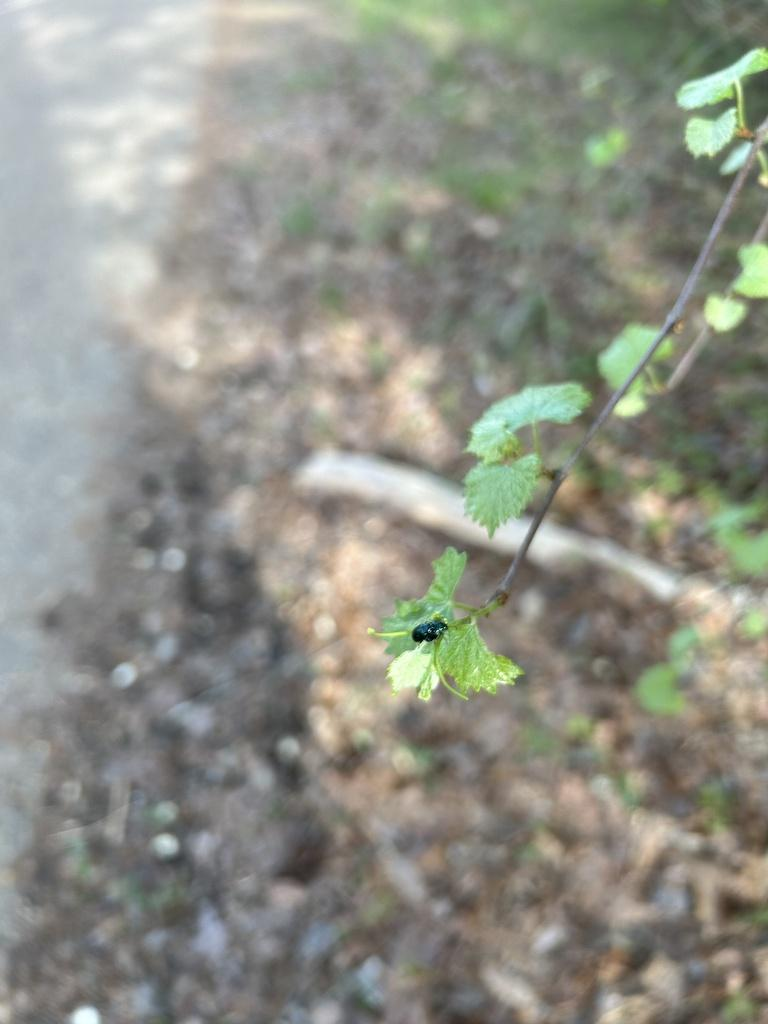flea_beetle: (403, 610, 458, 658)
